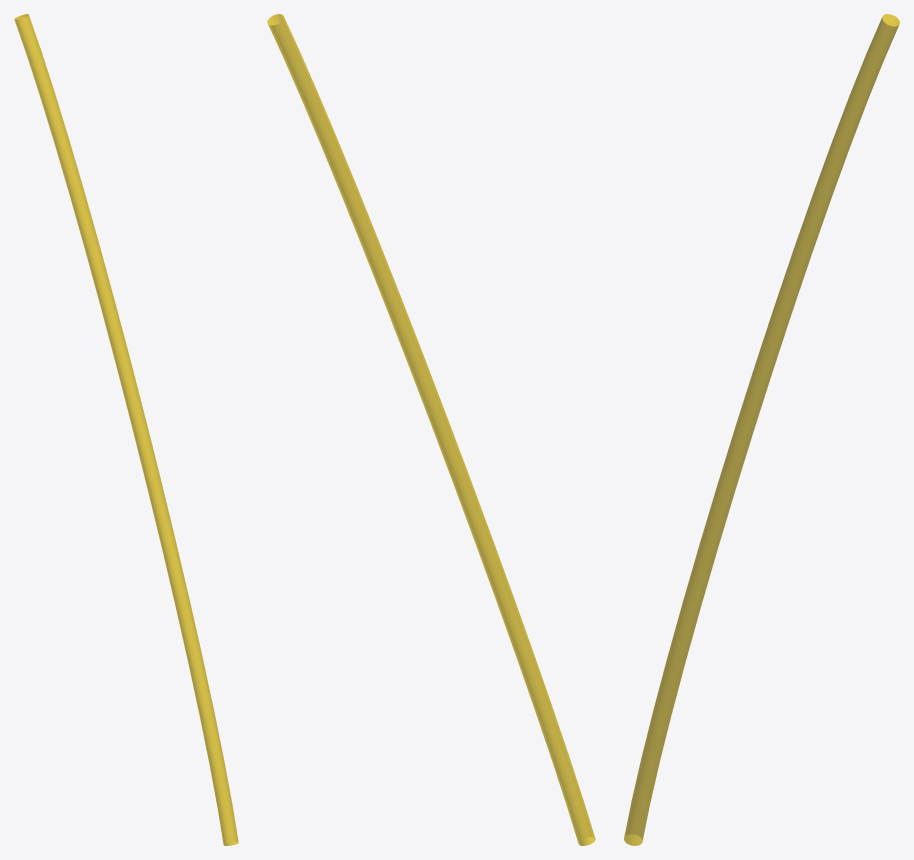
File: Event_75125125_track_59.fbx
3 renders of one model, left to right at view 1: azimuth 90°, elevation 25°; view 2: azimuth 150°, elevation 25°; view 3: azimuth 270°, elevation 25°, orthographic. The views are drawn at different scales.
Parts seen in each view (by area): view 1: Model; view 2: Model; view 3: Model.
Boxes of the visible parts, left/top/right/bottom form: Model: left=14, top=14, right=238, bottom=845; Model: left=267, top=14, right=595, bottom=845; Model: left=624, top=14, right=899, bottom=845.
Bounding box in the file's own units: 0.5336 × 2.16 × 0.5853.
